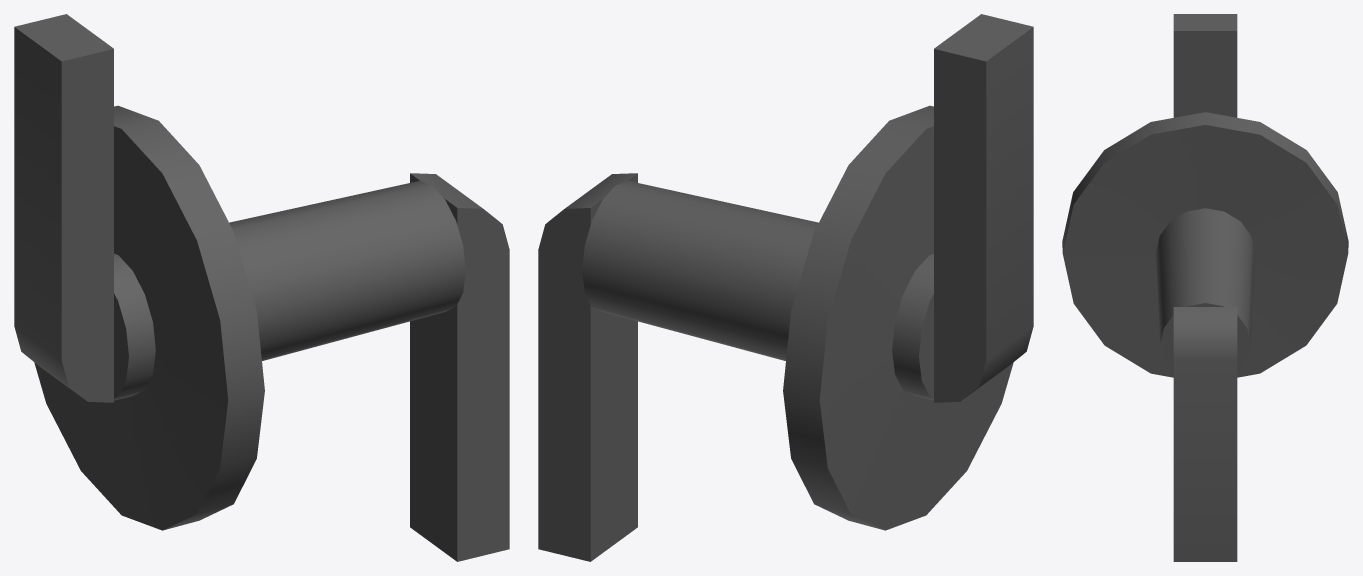
Rendered from Pedals2.obj.
3 renders of one model, left to right at view 1: azimuth 30°, elevation 25°; view 2: azimuth 150°, elevation 25°; view 3: azimuth 270°, elevation 25°, orthographic. The views are drawn at different scales.
Visible parts, largest first — view 1: BMX_Pedals; view 2: BMX_Pedals; view 3: BMX_Pedals.
Part boxes in pixels (box(x1,y1,x2,y2)): BMX_Pedals: box(14, 14, 509, 561); BMX_Pedals: box(538, 14, 1033, 561); BMX_Pedals: box(1062, 14, 1348, 561).
Bounding box in the file's own units: 0.4222 × 0.5377 × 0.3482.
